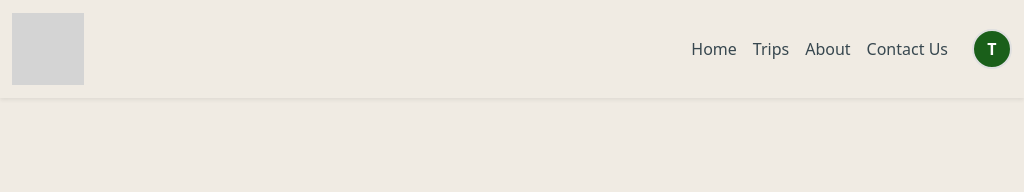
Test: NavigationBar › handles user with attributes.email
# Click to open dropdown and check username display
Click the text "T": (992, 49) x1=972 y1=29 x2=1012 y2=69
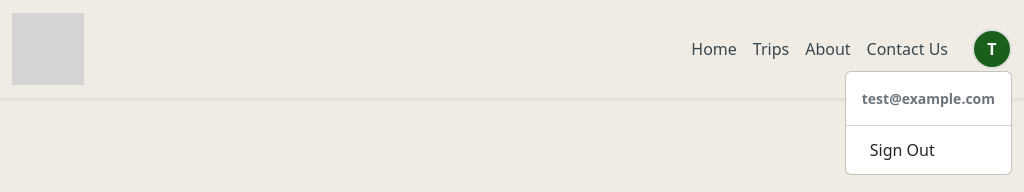
Now the text "test@example.com" is shown, box x1=862 y1=89 x2=995 y2=108
